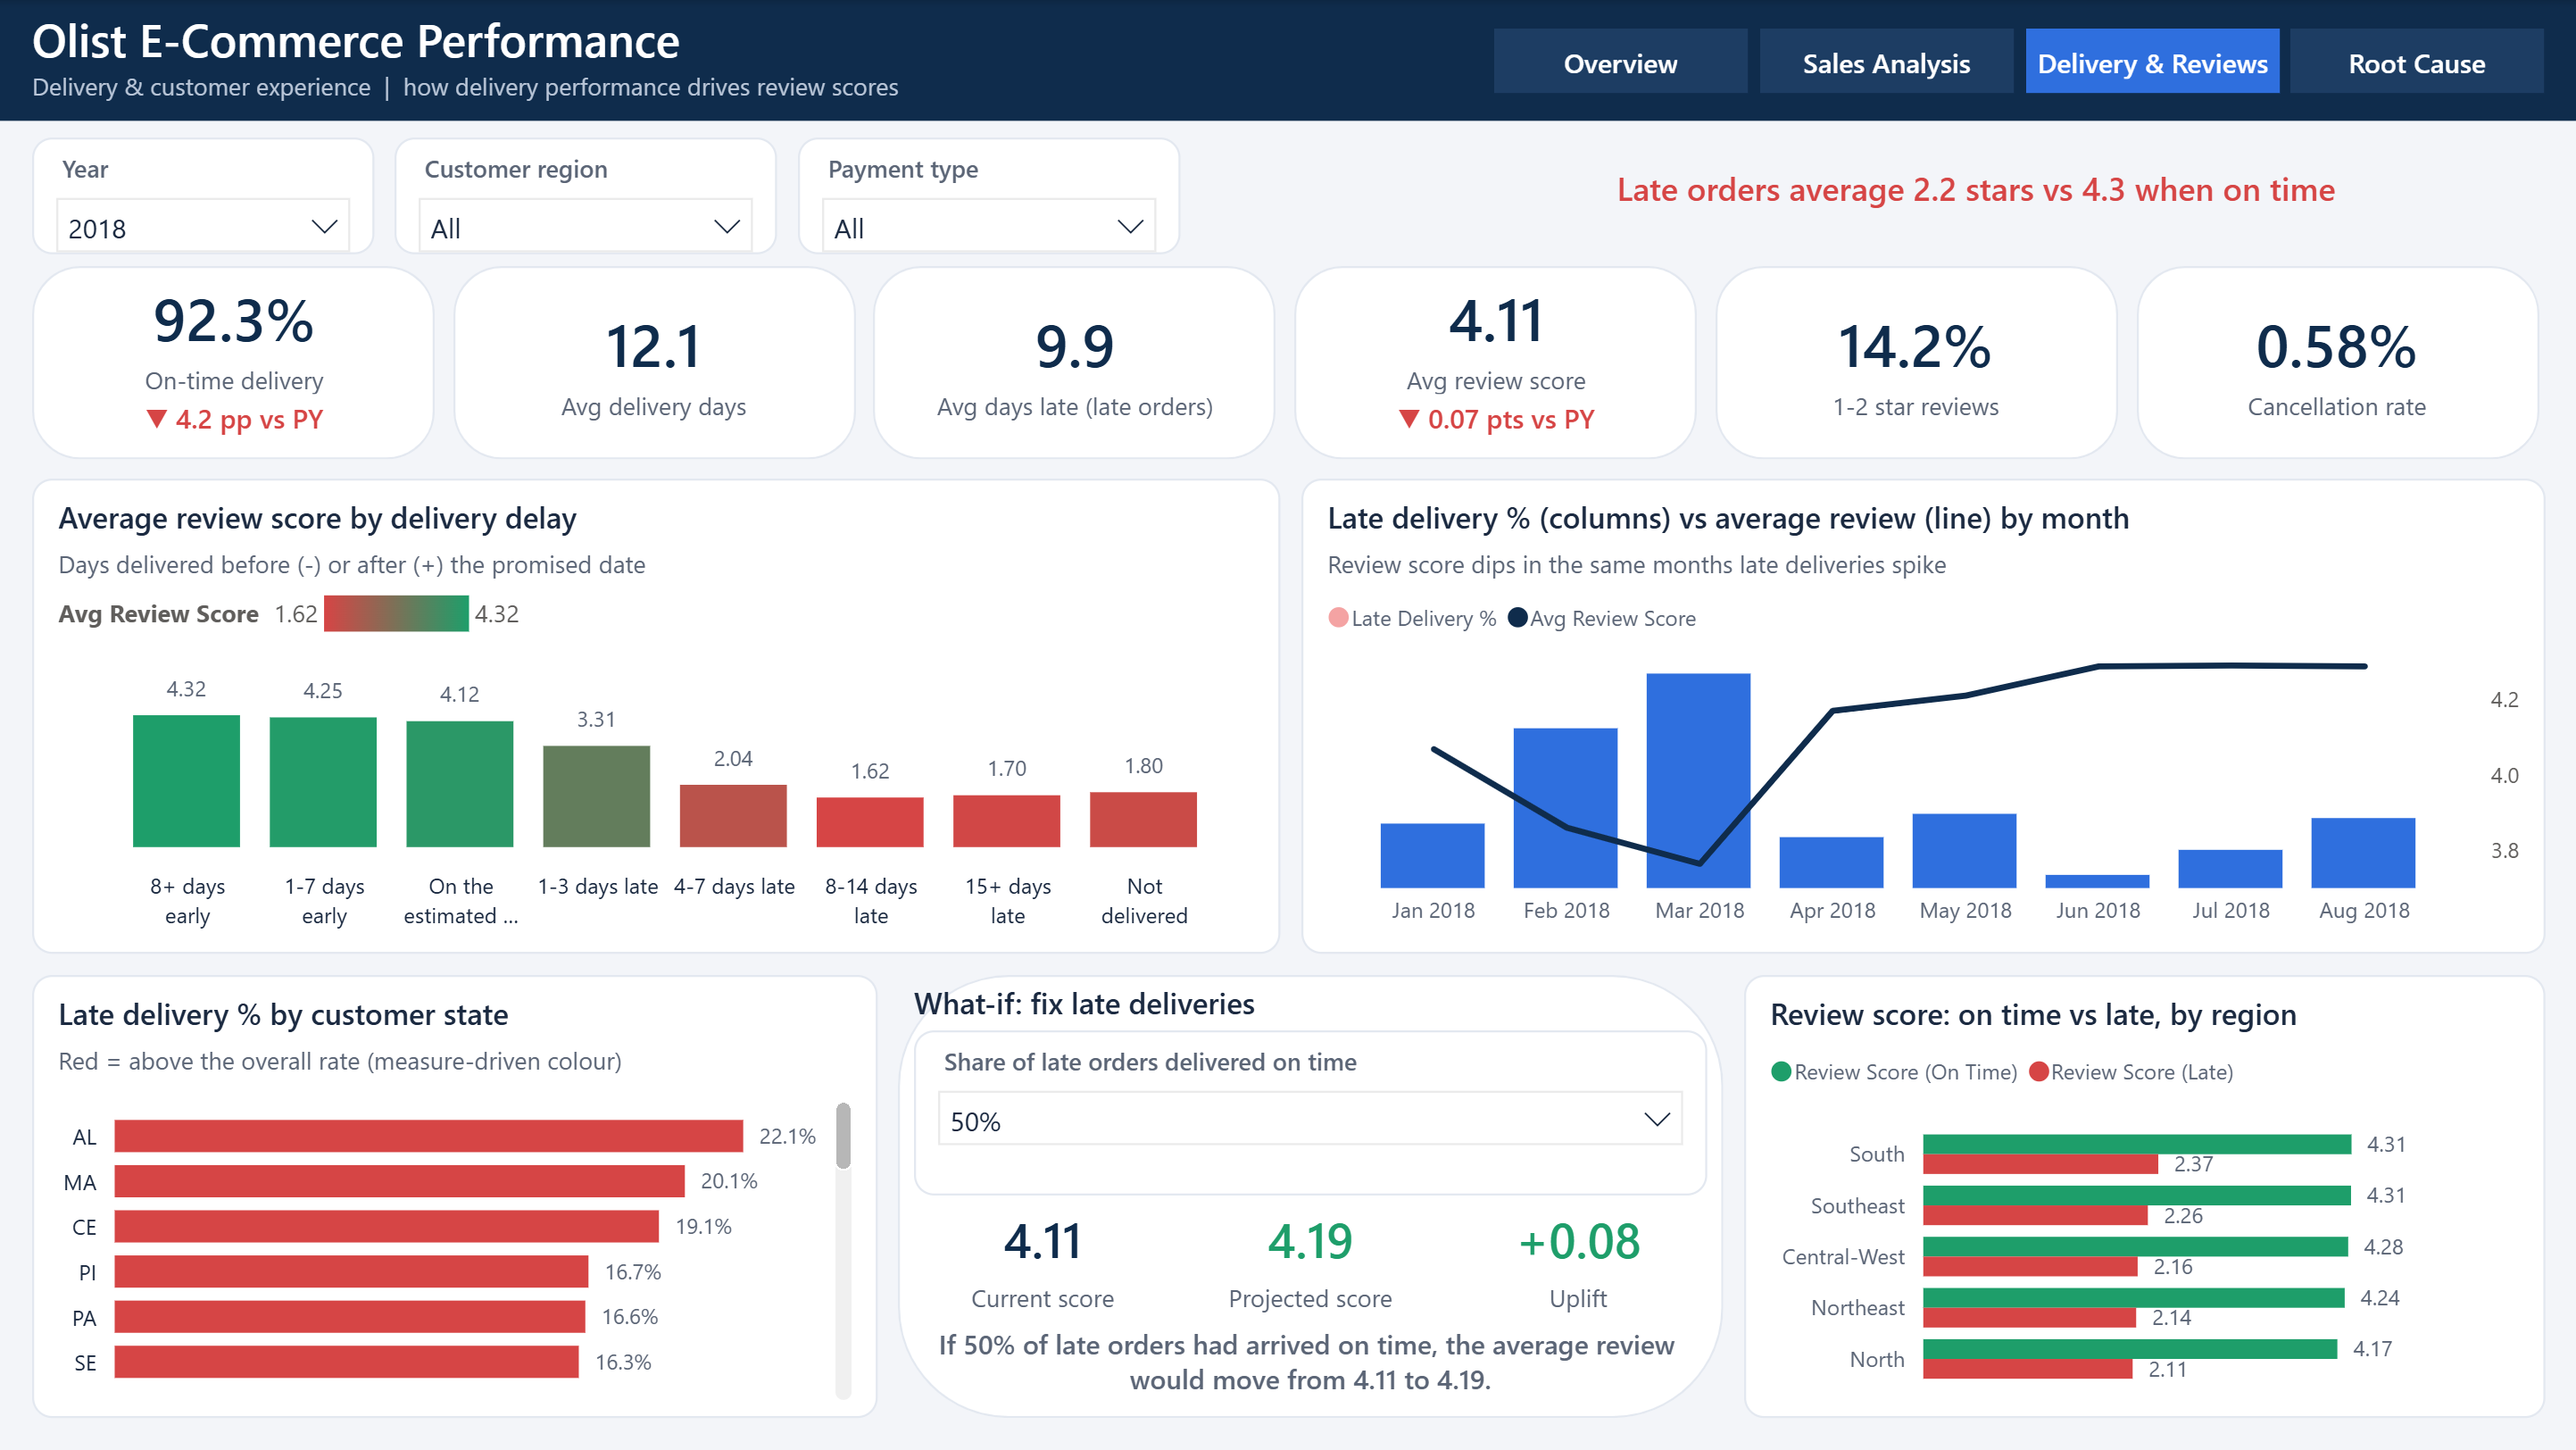

The dashboard page shown, as its layout file describes it:
{"tool":"powerbi","page":{"name":"Delivery & Reviews","canvas":[1280,720],"ordinal":2},"visuals":[{"type":"shape","box":[0,0,1280,60],"z":6000},{"type":"textbox","box":[16,4,620,54],"z":6100},{"type":"actionButton","box":[742,14,126,32],"z":6200},{"type":"actionButton","box":[874,14,126,32],"z":6300},{"type":"actionButton","box":[1006,14,126,32],"z":6400},{"type":"actionButton","box":[1138,14,126,32],"z":6500},{"type":"slicer","fields":{"Values":["Date.Year"]},"box":[16,68,170,58],"z":6600},{"type":"slicer","fields":{"Values":["Customer.Region"]},"box":[196,68,190,58],"z":6700},{"type":"slicer","fields":{"Values":["Orders.Payment Type"]},"box":[396,68,190,58],"z":6800},{"type":"card","fields":{"Values":["_Measures.Late Review Insight"]},"box":[700,74,564,44],"z":6900},{"type":"shape","box":[16,132,200,96],"z":7000},{"type":"card","fields":{"Values":["_Measures.On-Time Delivery %"]},"box":[20,136,192,62],"z":7100},{"type":"card","fields":{"Values":["_Measures.On-Time YoY Label"]},"box":[20,196,192,28],"z":7200},{"type":"shape","box":[225,132,200,96],"z":7300},{"type":"card","fields":{"Values":["_Measures.Avg Delivery Days"]},"box":[229,136,192,88],"z":7400},{"type":"shape","box":[434,132,200,96],"z":7500},{"type":"card","fields":{"Values":["_Measures.Avg Days Late"]},"box":[438,136,192,88],"z":7600},{"type":"shape","box":[643,132,200,96],"z":7700},{"type":"card","fields":{"Values":["_Measures.Avg Review Score"]},"box":[647,136,192,62],"z":7800},{"type":"card","fields":{"Values":["_Measures.Review YoY Label"]},"box":[647,196,192,28],"z":7900},{"type":"shape","box":[852,132,200,96],"z":8000},{"type":"card","fields":{"Values":["_Measures.Negative Review %"]},"box":[856,136,192,88],"z":8100},{"type":"shape","box":[1061,132,200,96],"z":8200},{"type":"card","fields":{"Values":["_Measures.Cancellation Rate %"]},"box":[1065,136,192,88],"z":8300},{"type":"columnChart","title":"Average review score by delivery delay","fields":{"Category":["Orders.Delay Bucket"],"Y":["_Measures.Avg Review Score"]},"box":[16,238,620,236],"z":8400},{"type":"lineClusteredColumnComboChart","title":"Late delivery % (columns) vs average review (line) by month","fields":{"Category":["Date.Year Month"],"Y":["_Measures.Late Delivery %"],"Y2":["_Measures.Avg Review Score"]},"box":[646,238,618,236],"z":8500},{"type":"clusteredBarChart","title":"Late delivery % by customer state","fields":{"Category":["Customer.State"],"Y":["_Measures.Late Delivery %"]},"box":[16,484,420,220],"z":8600},{"type":"shape","box":[446,484,410,220],"z":8700},{"type":"textbox","box":[454,488,394,30],"z":8800},{"type":"slicer","fields":{"Values":["Late Orders Fixed %.Late Orders Fixed %"]},"box":[454,512,394,82],"z":8900},{"type":"card","fields":{"Values":["_Measures.Avg Review Score"]},"box":[454,596,128,58],"z":9000},{"type":"card","fields":{"Values":["_Measures.Projected Avg Review Score"]},"box":[587,596,128,58],"z":9100},{"type":"card","fields":{"Values":["_Measures.Review Score Uplift"]},"box":[720,596,128,58],"z":9200},{"type":"card","fields":{"Values":["_Measures.What-If Narrative"]},"box":[454,652,394,50],"z":9300},{"type":"clusteredBarChart","title":"Review score: on time vs late, by region","fields":{"Category":["Customer.Region"],"Y":["_Measures.Review Score (On Time)","_Measures.Review Score (Late)"]},"box":[866,484,398,220],"z":9400}]}

Visuals, with their boxes in screenshot pixels (x1, y1, x2, y2), scaled from the page's 1280x720 canvas onto the 2576x1450 screenshot:
shape: <region>0, 0, 2575, 121</region>
textbox: <region>32, 8, 1280, 117</region>
actionButton: <region>1493, 29, 1747, 93</region>
actionButton: <region>1759, 29, 2013, 93</region>
actionButton: <region>2024, 29, 2278, 93</region>
actionButton: <region>2290, 29, 2544, 93</region>
slicer - Date.Year: <region>32, 137, 374, 254</region>
slicer - Customer.Region: <region>395, 137, 777, 254</region>
slicer - Orders.Payment Type: <region>797, 137, 1179, 254</region>
card - _Measures.Late Review Insight: <region>1408, 149, 2544, 237</region>
shape: <region>32, 266, 435, 459</region>
card - _Measures.On-Time Delivery %: <region>40, 274, 427, 399</region>
card - _Measures.On-Time YoY Label: <region>40, 395, 427, 451</region>
shape: <region>453, 266, 855, 459</region>
card - _Measures.Avg Delivery Days: <region>461, 274, 847, 451</region>
shape: <region>874, 266, 1276, 459</region>
card - _Measures.Avg Days Late: <region>882, 274, 1267, 451</region>
shape: <region>1294, 266, 1697, 459</region>
card - _Measures.Avg Review Score: <region>1302, 274, 1689, 399</region>
card - _Measures.Review YoY Label: <region>1302, 395, 1689, 451</region>
shape: <region>1715, 266, 2117, 459</region>
card - _Measures.Negative Review %: <region>1723, 274, 2109, 451</region>
shape: <region>2135, 266, 2538, 459</region>
card - _Measures.Cancellation Rate %: <region>2143, 274, 2530, 451</region>
"Average review score by delivery delay" columnChart: <region>32, 479, 1280, 954</region>
"Late delivery % (columns) vs average review (line) by month" lineClusteredColumnComboChart: <region>1300, 479, 2544, 954</region>
"Late delivery % by customer state" clusteredBarChart: <region>32, 975, 877, 1418</region>
shape: <region>898, 975, 1723, 1418</region>
textbox: <region>914, 983, 1707, 1043</region>
slicer - Late Orders Fixed %.Late Orders Fixed %: <region>914, 1031, 1707, 1196</region>
card - _Measures.Avg Review Score: <region>914, 1200, 1171, 1317</region>
card - _Measures.Projected Avg Review Score: <region>1182, 1200, 1439, 1317</region>
card - _Measures.Review Score Uplift: <region>1449, 1200, 1707, 1317</region>
card - _Measures.What-If Narrative: <region>914, 1313, 1707, 1413</region>
"Review score: on time vs late, by region" clusteredBarChart: <region>1743, 975, 2544, 1418</region>
